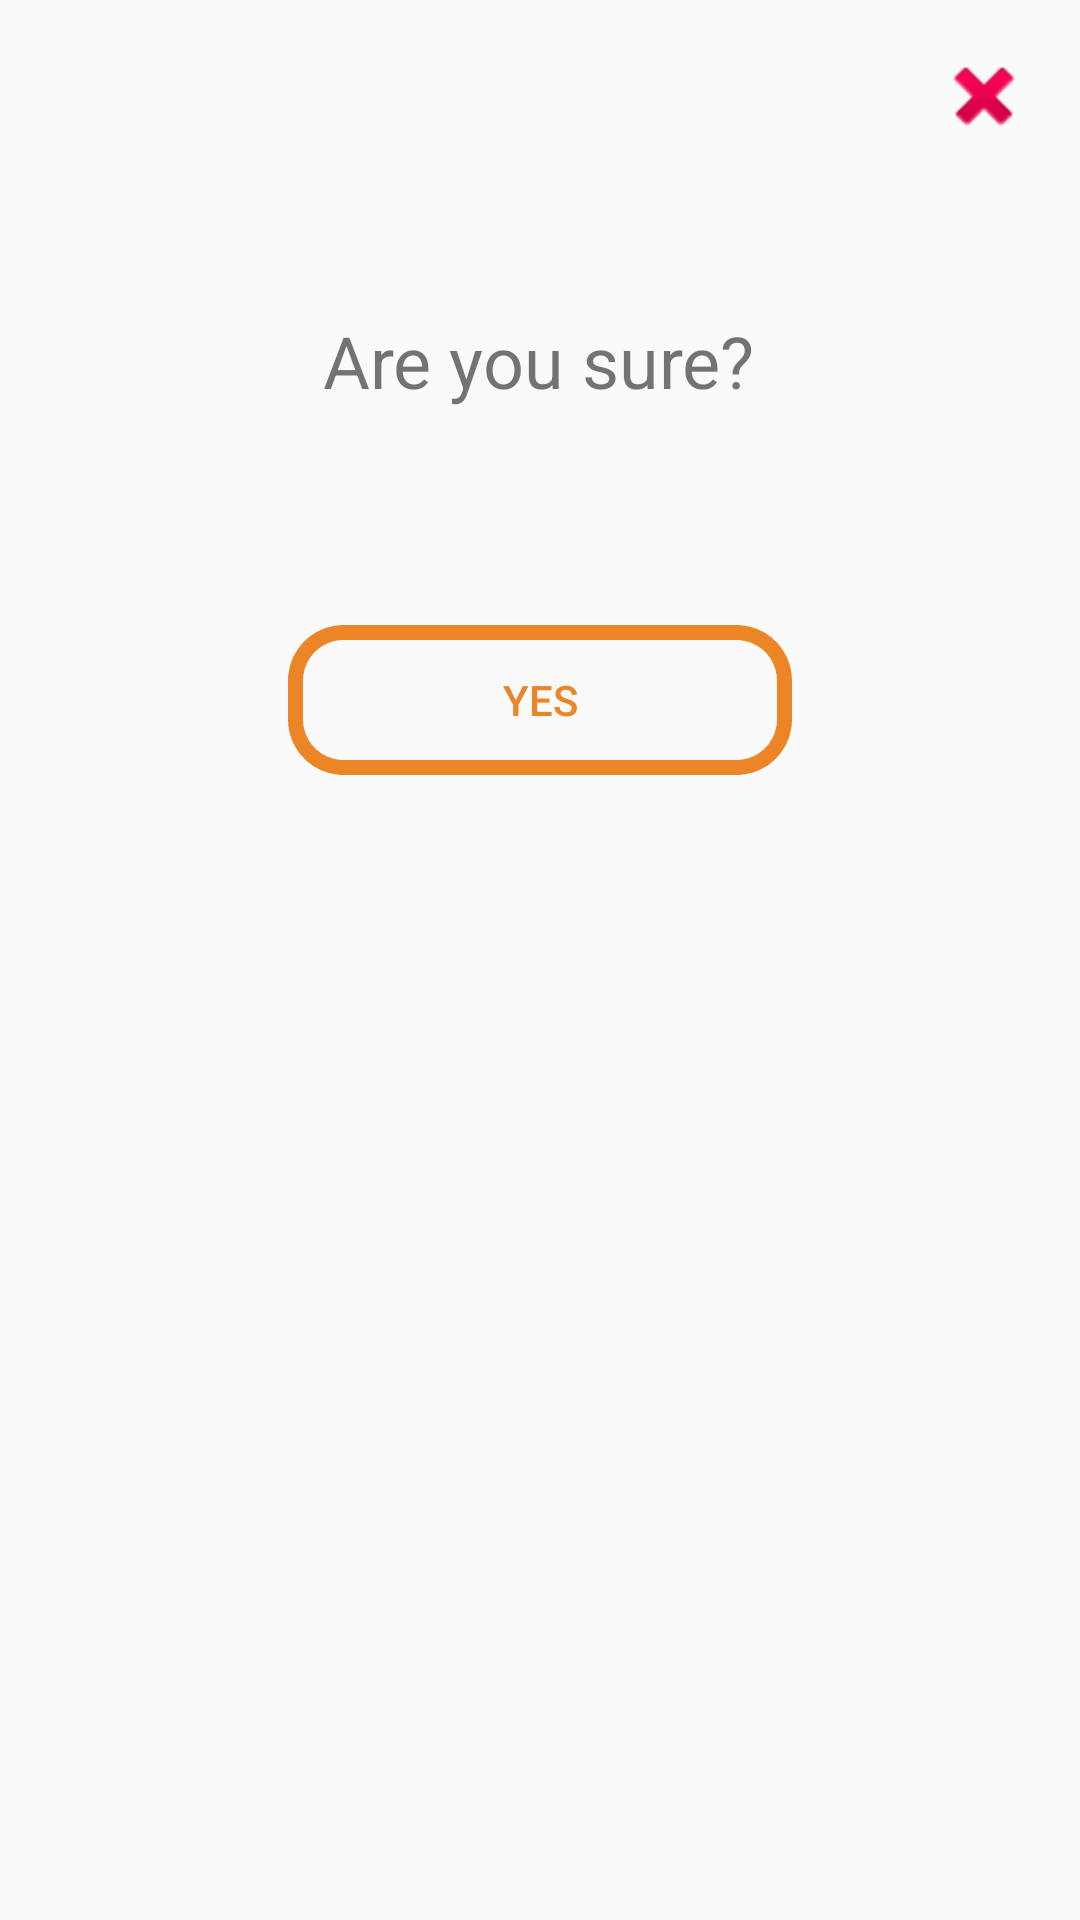

Where to tap for icons on this 1080w x 1920h app screen, as (x,y):
delete: (984,96)
